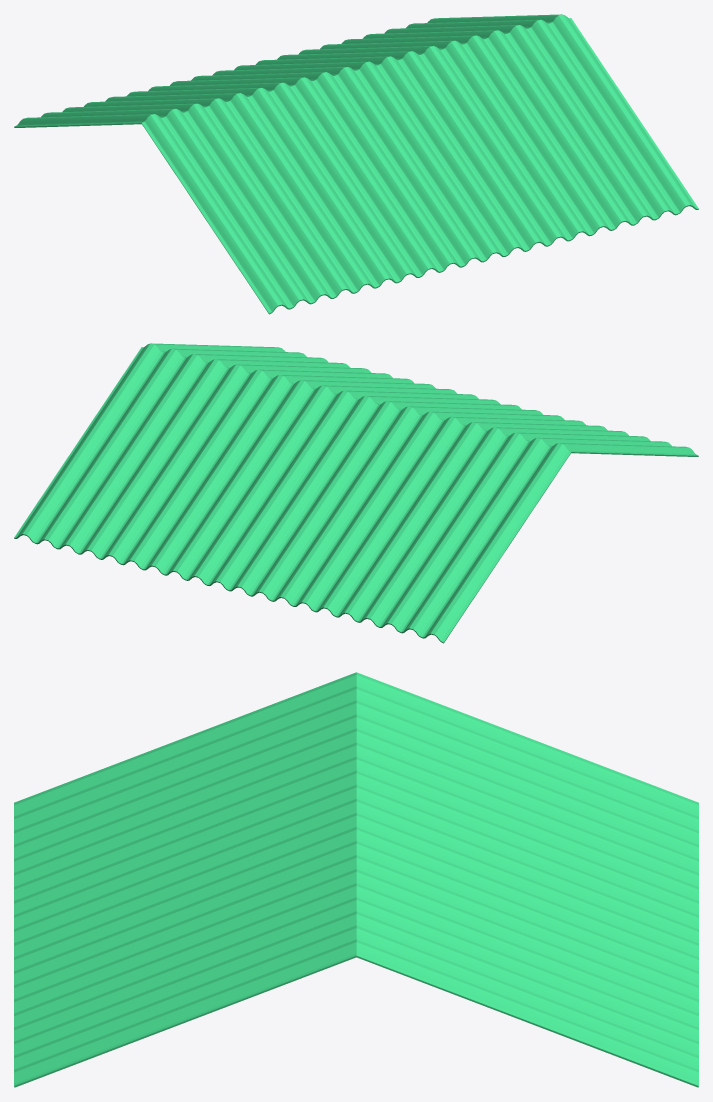
The model's file is BuildingBlock_1_3.fbx.
3 views of the same model, one above another, from view 1: azimuth 30°, elevation 25°; view 2: azimuth 150°, elevation 25°; view 3: azimuth 270°, elevation 25° (orthographic). The views are drawn at different scales.
Visible parts, largest first — view 1: BuildingBlock_1_3; view 2: BuildingBlock_1_3; view 3: BuildingBlock_1_3.
Boxes of the visible parts, bbox=[...] form: BuildingBlock_1_3: bbox=[14, 14, 698, 314]; BuildingBlock_1_3: bbox=[14, 343, 698, 643]; BuildingBlock_1_3: bbox=[14, 672, 698, 1087].
Size of the model in its own units: 1032 by 239 by 1061.
